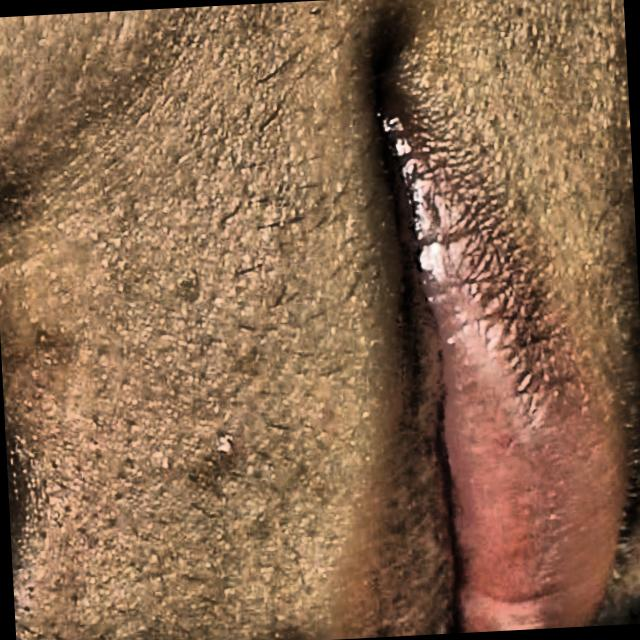whiteheads: (204, 425, 248, 463), (158, 446, 180, 482)
